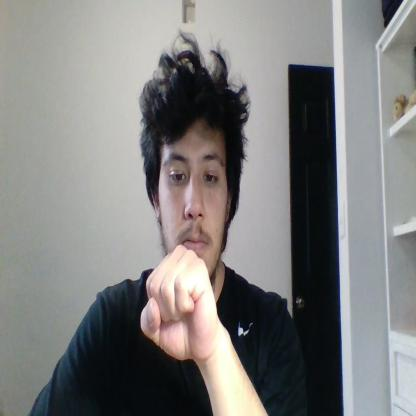S: (140, 244, 219, 362)
